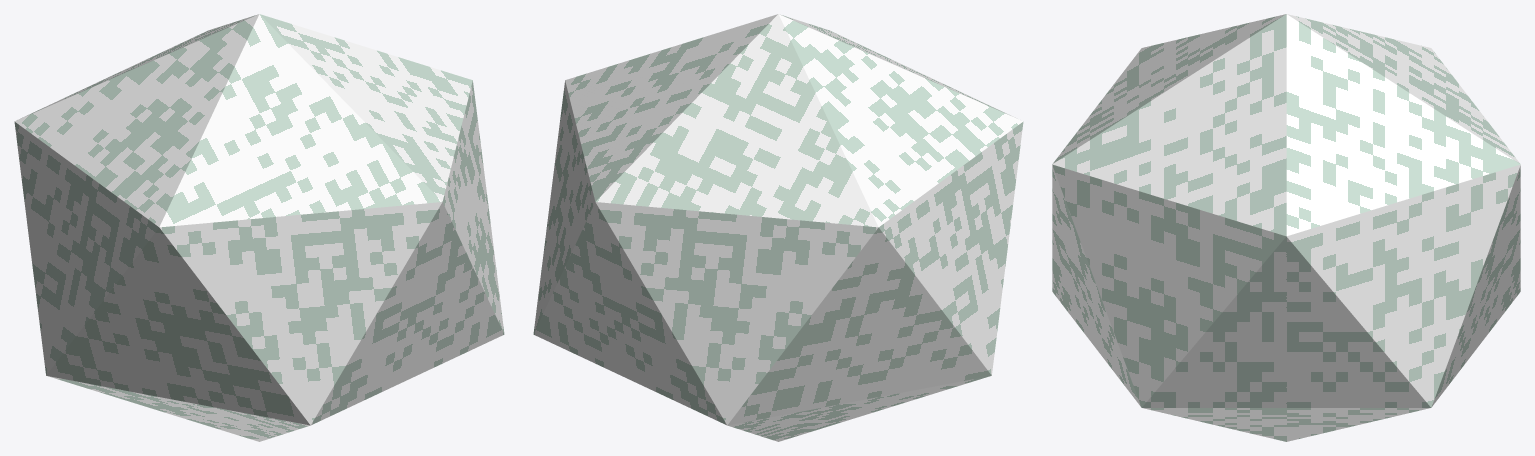
The model's file is a41_iglu.glb.
3 views of the same model, side by side, from view 1: azimuth 30°, elevation 25°; view 2: azimuth 150°, elevation 25°; view 3: azimuth 270°, elevation 25° (orthographic).
Visible parts, largest first — view 1: a41_iglu; view 2: a41_iglu; view 3: a41_iglu.
Boxes of the visible parts, x1,y1,x2,y2 form: a41_iglu: (14,14,504,441); a41_iglu: (533,14,1023,441); a41_iglu: (1052,14,1520,441).
Size of the model in its own units: 2.5 by 2.4 by 2.38.
Materials: 1 (1 with a texture image).
